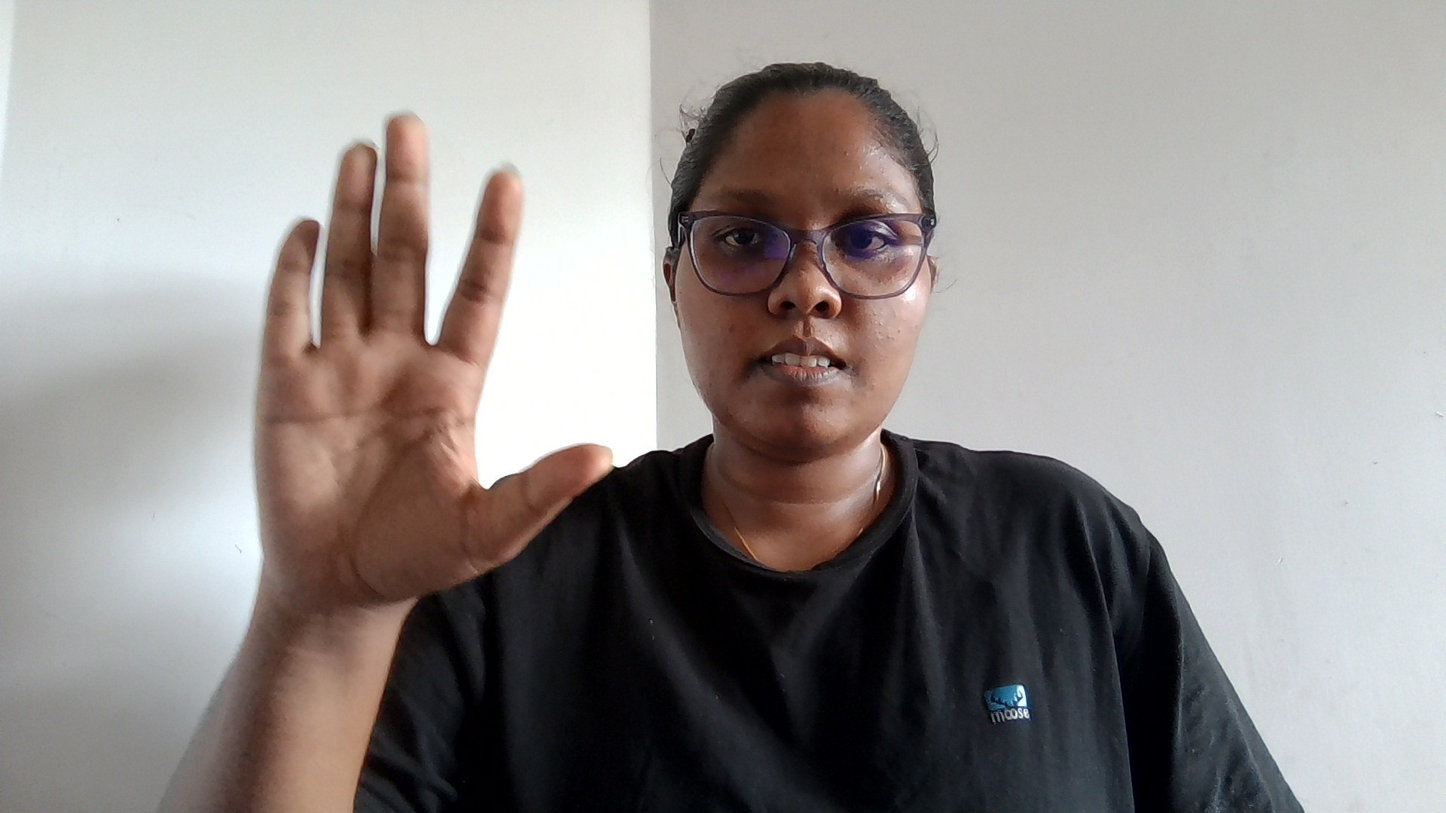Hello: (228, 83, 773, 703)
